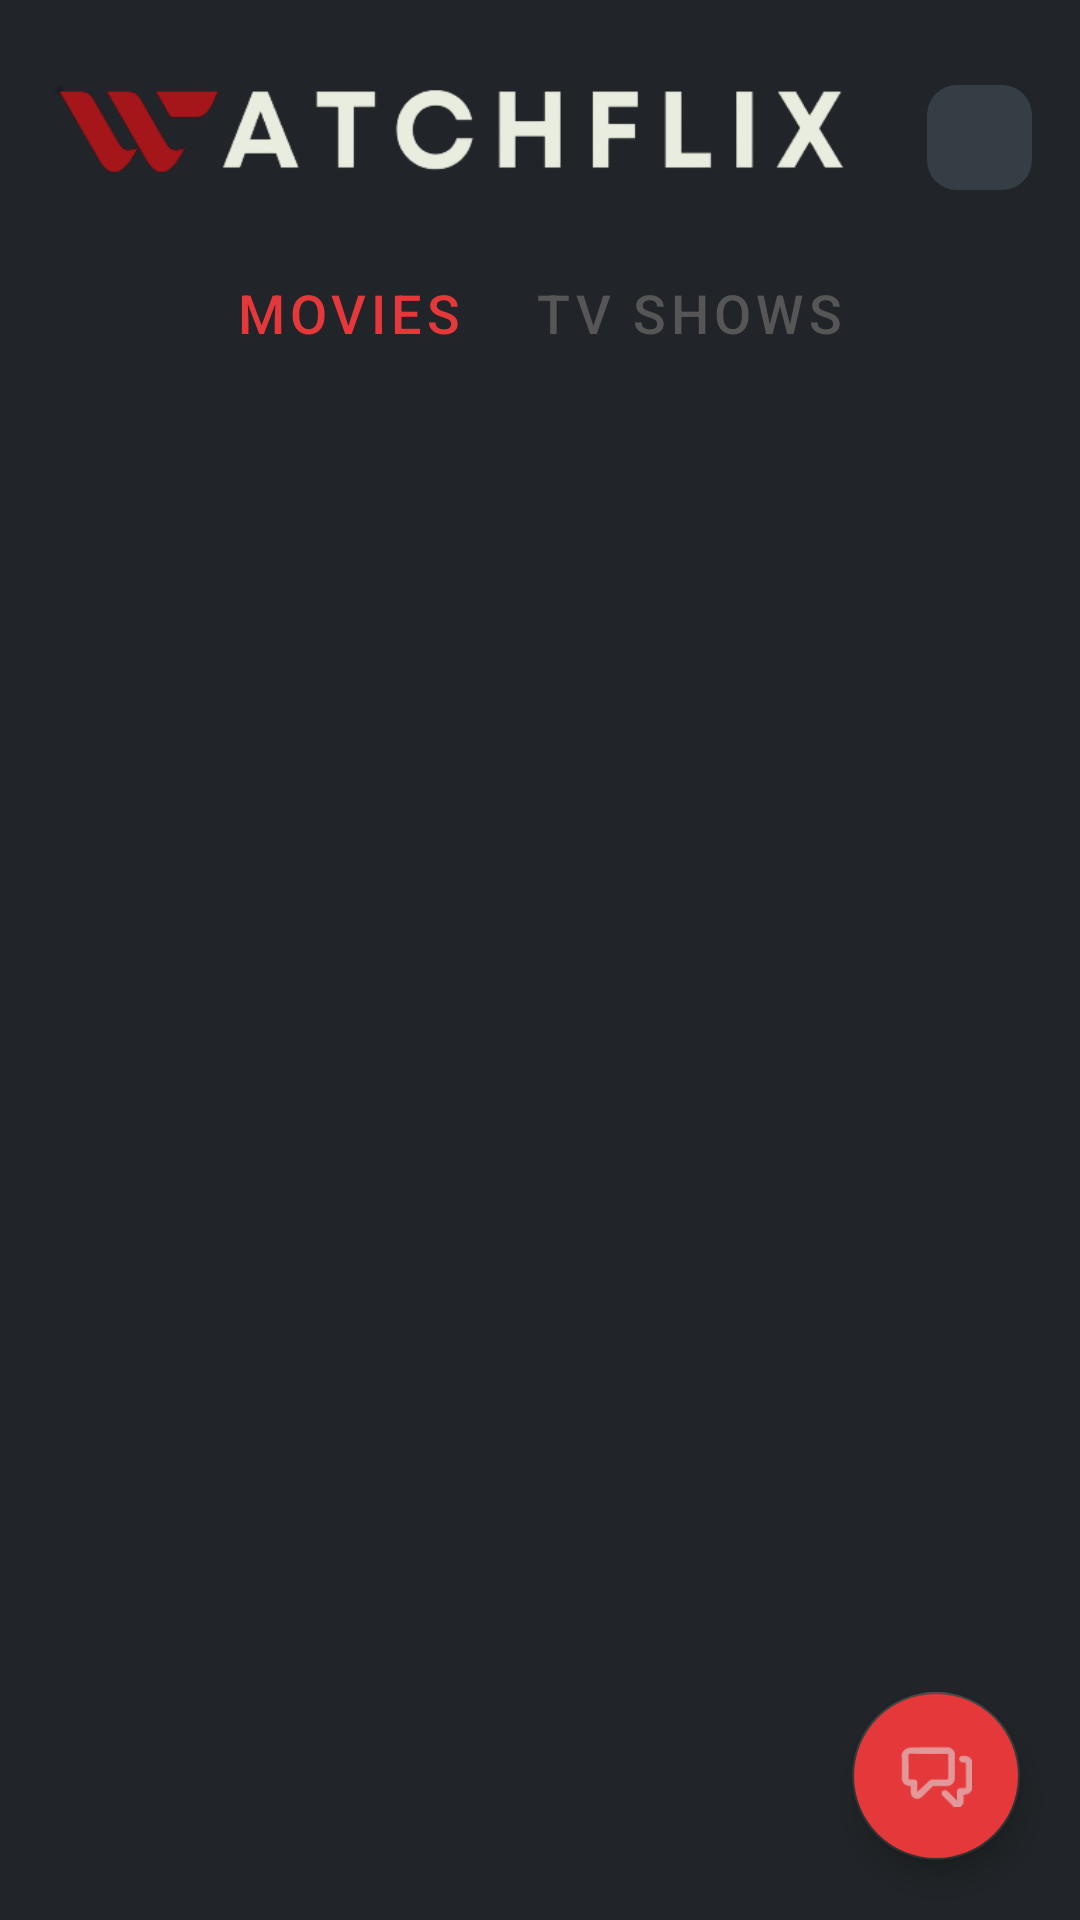

Icon bounding boxes for this 1080 × 1920 phone screenshot, format region(x1, y1, x2, y2):
chat: region(854, 1692, 1018, 1858)
